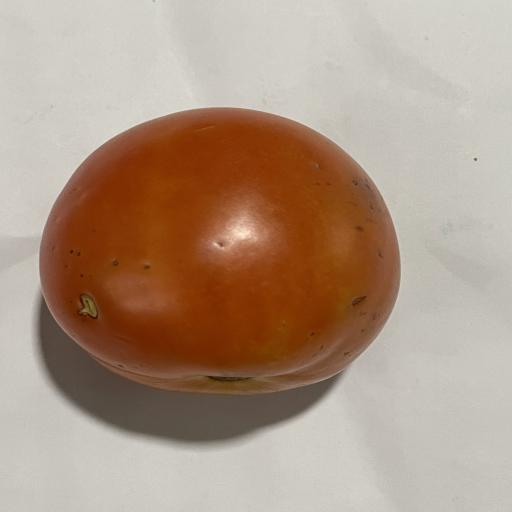ripe: (40, 108, 400, 394)
